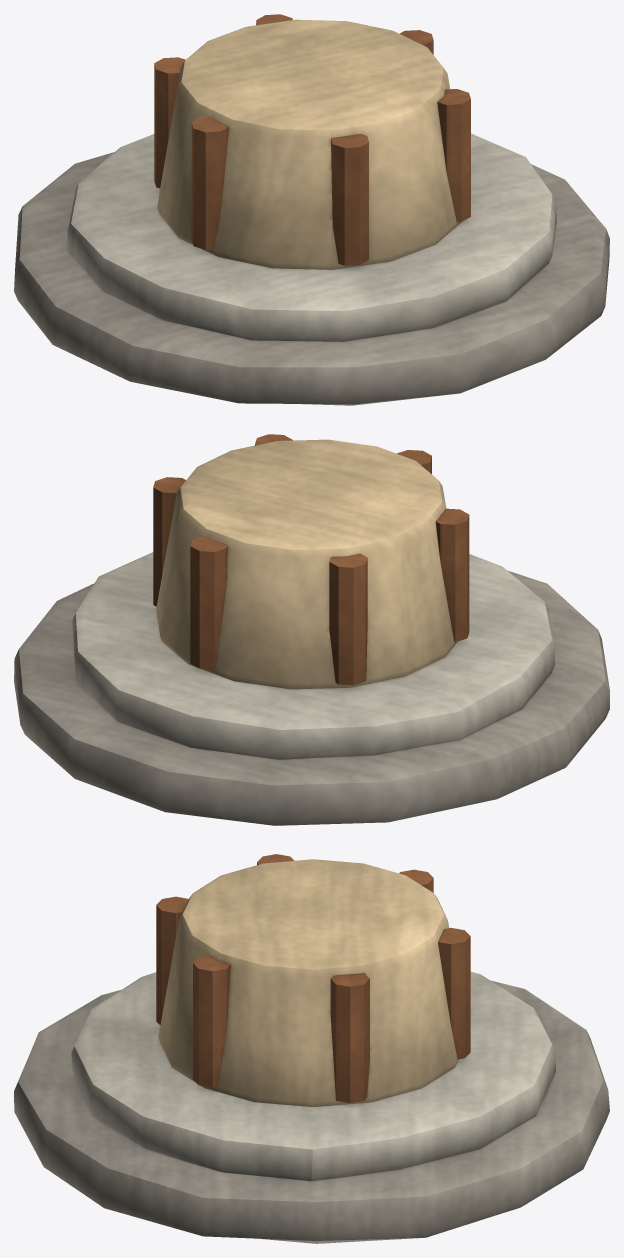
File: pedestal_base.glb
3 renders of one model, top to bottom at view 1: azimuth 30°, elevation 25°; view 2: azimuth 150°, elevation 25°; view 3: azimuth 270°, elevation 25°, orthographic.
Visible parts, largest first — view 1: Base; view 2: Base; view 3: Base.
Part boxes in pixels (box(x1,y1,x2,y2)): Base: box(14, 14, 609, 405); Base: box(14, 434, 609, 825); Base: box(14, 854, 609, 1243).
Size of the model in its own units: 1.27 by 0.5046 by 1.28.
Materials: 1 (1 with a texture image).
